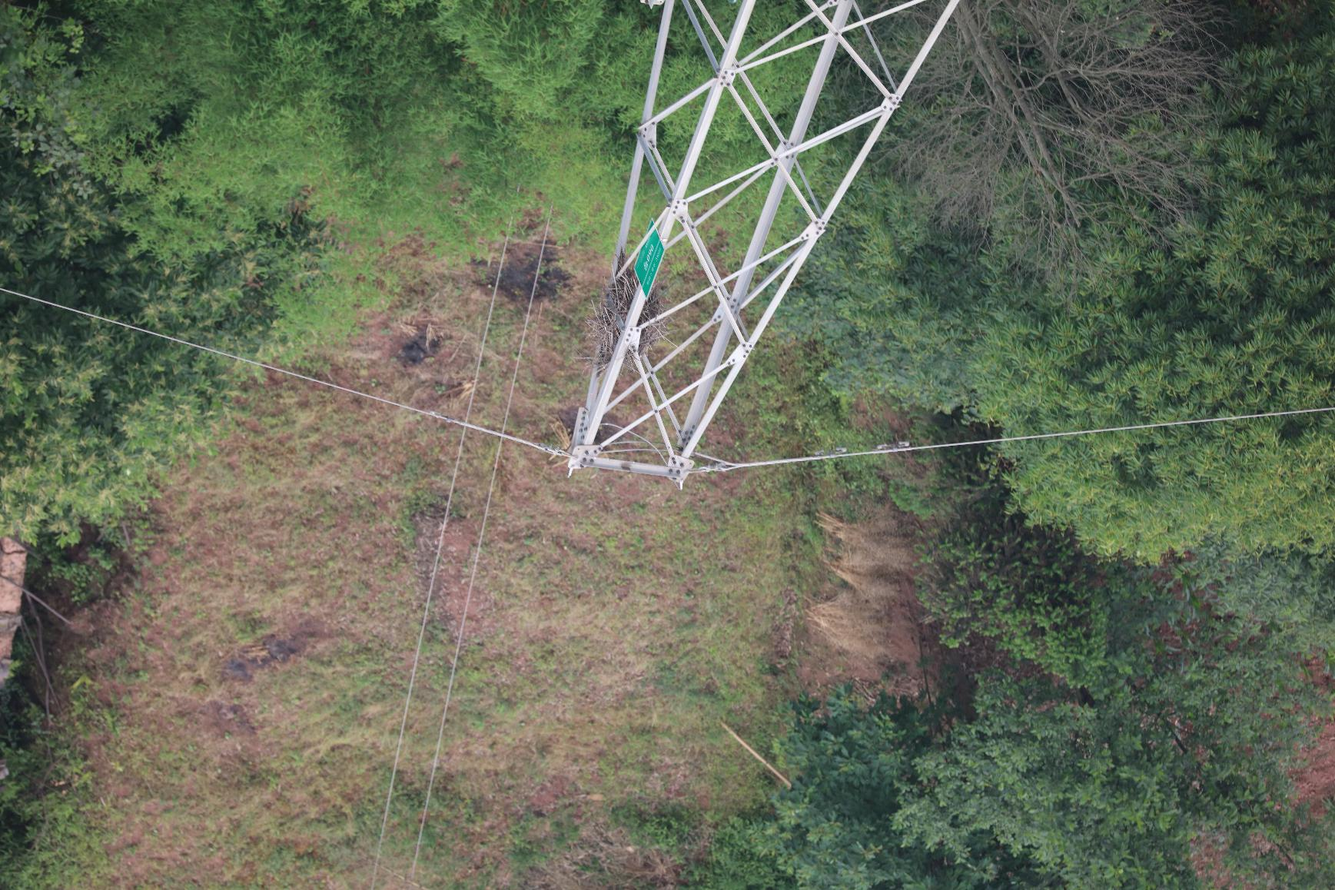damper: (812, 444, 848, 460), (875, 439, 912, 453)
nest: (589, 249, 667, 368)
